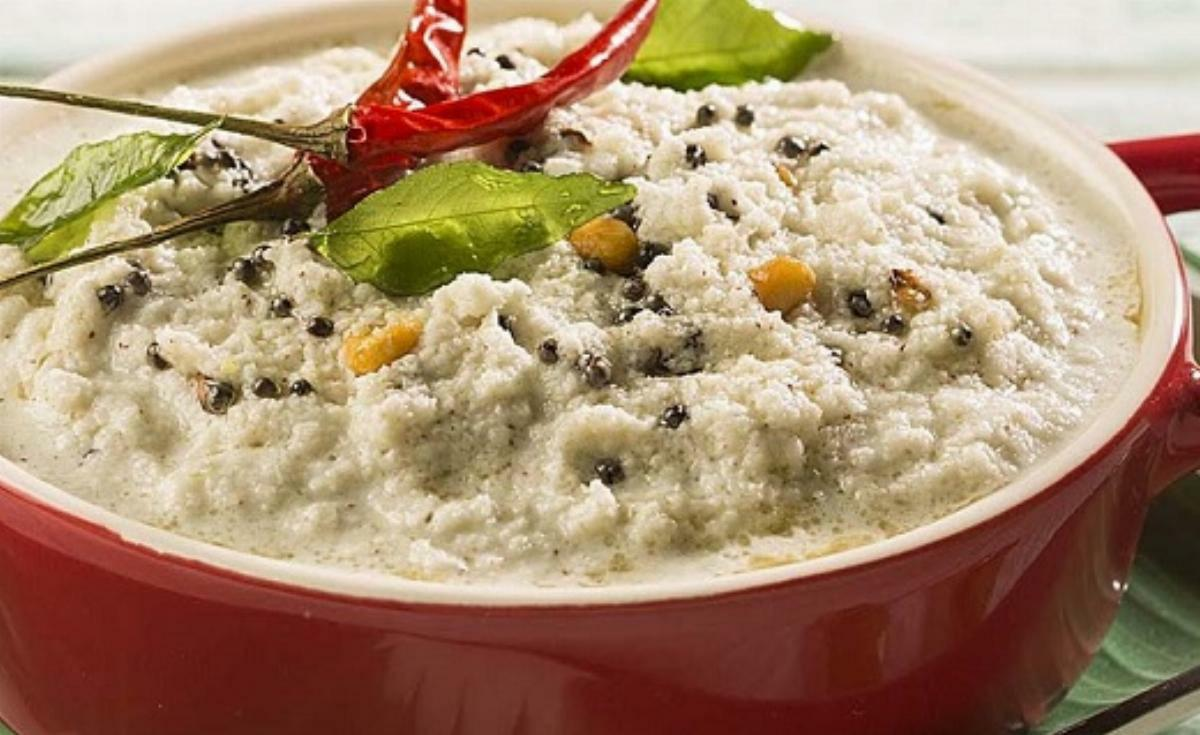CoconutChutney: (0, 13, 1143, 589)
